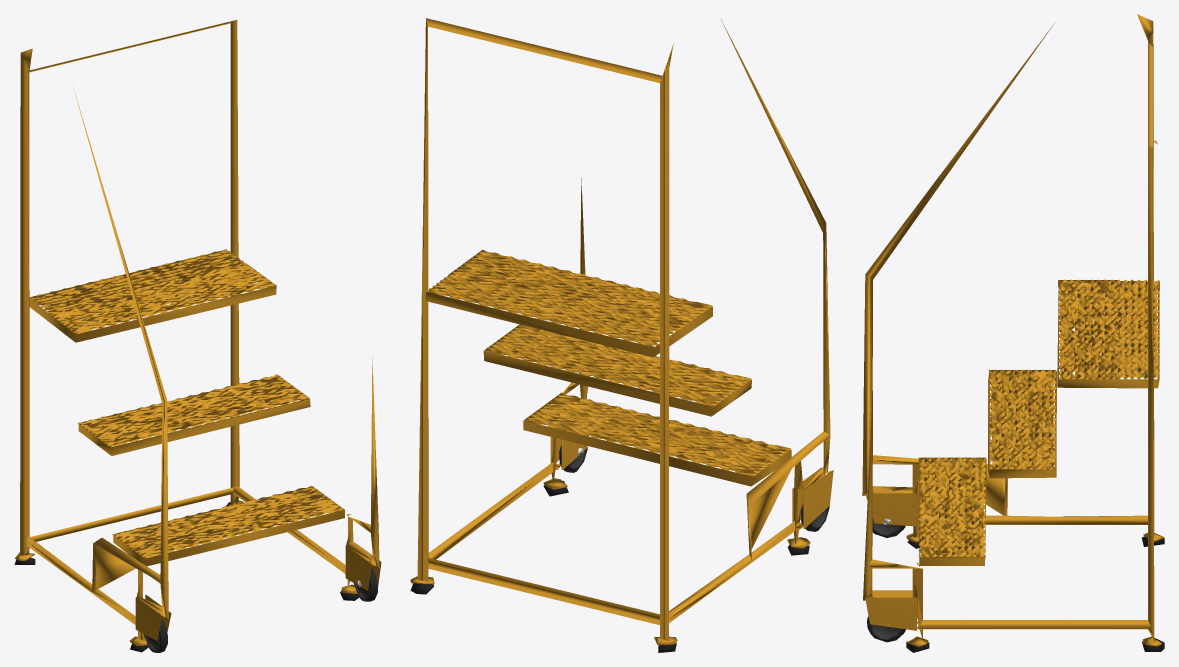
The model's file is ladder_rolling_yellow_a02.glb.
The picture shows the model from 3 angles, left to right: view 1: azimuth 30°, elevation 25°; view 2: azimuth 150°, elevation 25°; view 3: azimuth 270°, elevation 25°; orthographic projection. The views are drawn at different scales.
Visible parts, largest first — view 1: sm_body_a02_mesh_00; view 2: sm_body_a02_mesh_00; view 3: sm_body_a02_mesh_00, sm_wheel2_a02_mesh_00.
Part boxes in pixels (x1,y1,x2,y2): sm_body_a02_mesh_00: (14, 20, 381, 652); sm_body_a02_mesh_00: (410, 18, 833, 652); sm_body_a02_mesh_00: (862, 14, 1164, 652); sm_wheel2_a02_mesh_00: (867, 616, 905, 642).
Bounding box in the file's own units: 0.6943 × 1.51 × 0.778.
Materials: 4 (3 with a texture image).
